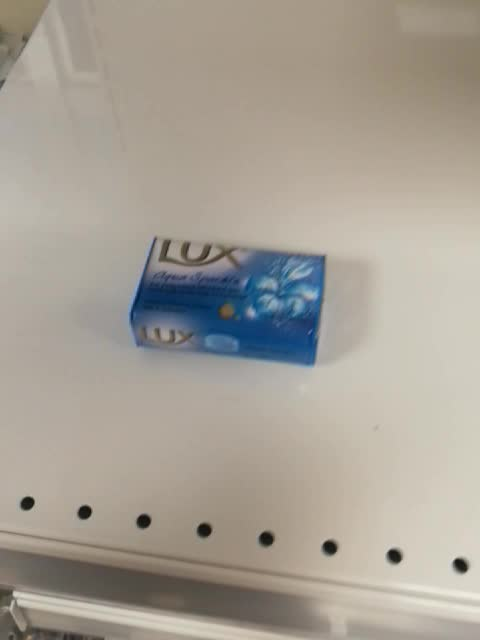soap: (128, 236, 327, 369)
